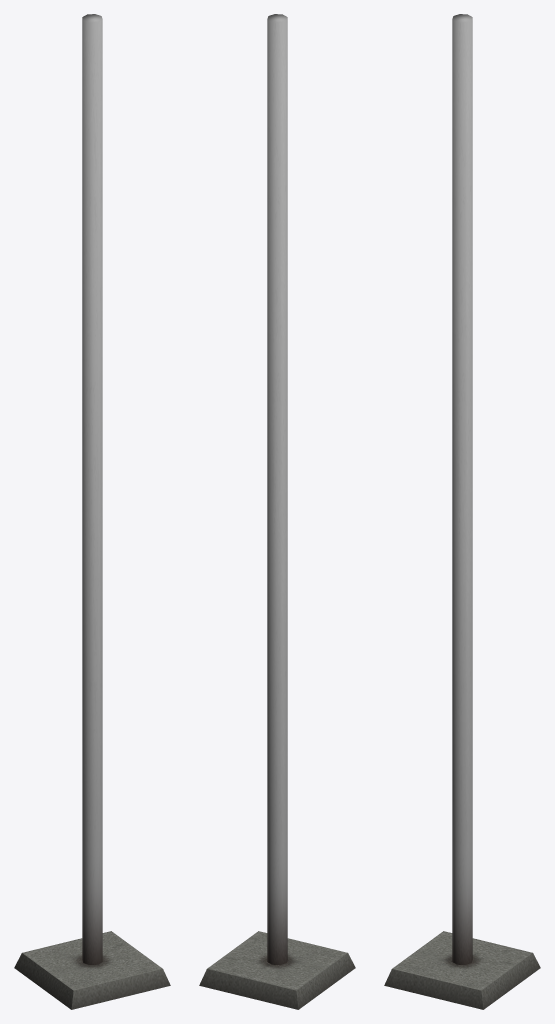
File: Parts_Pillar_3000.fbx
3 renders of one model, left to right at view 1: azimuth 30°, elevation 25°; view 2: azimuth 150°, elevation 25°; view 3: azimuth 330°, elevation 25°, orthographic.
Visible parts, largest first — view 1: 901_pillar_3000; view 2: 901_pillar_3000; view 3: 901_pillar_3000.
Boxes of the visible parts, <box> form: 901_pillar_3000: <box>14,14,170,1009</box>; 901_pillar_3000: <box>199,14,355,1009</box>; 901_pillar_3000: <box>384,14,540,1009</box>.
Size of the model in its own units: 0.325 by 2.99 by 0.325.
